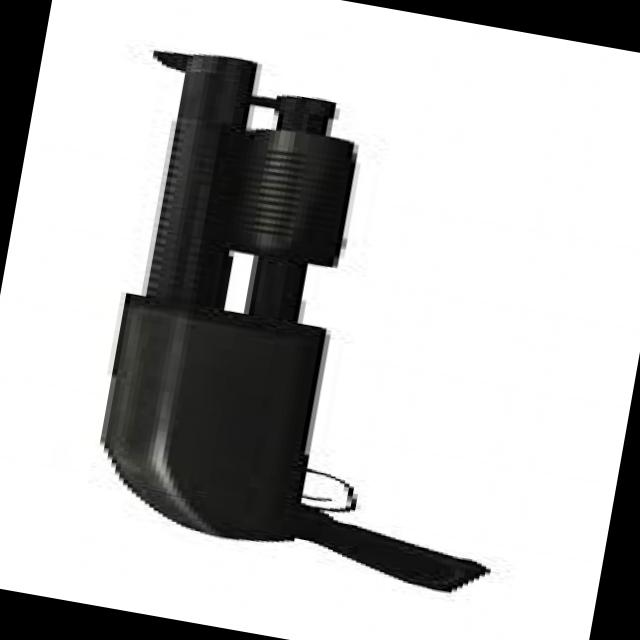long weapon: (25, 19, 532, 612)
